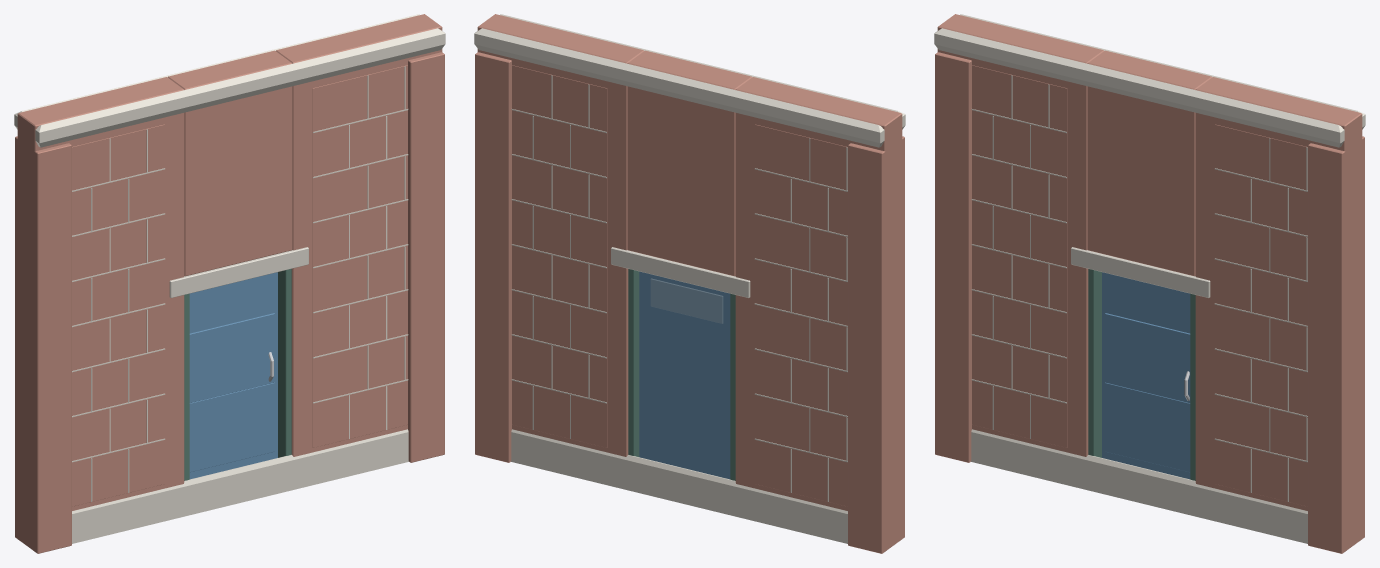
3 views of the same model, side by side, from view 1: azimuth 30°, elevation 25°; view 2: azimuth 150°, elevation 25°; view 3: azimuth 330°, elevation 25° (orthographic).
Visible parts, largest first — view 1: service-door-module, service-door/blue; view 2: service-door-module, service-door/blue, service-door/glass; view 3: service-door-module, service-door/blue.
Part boxes in pixels (x1,y1,x2,y2): service-door-module: (14, 14, 445, 553); service-door/blue: (189, 272, 277, 479); service-door-module: (474, 14, 905, 553); service-door/blue: (639, 271, 730, 479); service-door/glass: (651, 278, 722, 323); service-door-module: (934, 14, 1365, 553); service-door/blue: (1102, 272, 1190, 479).
Bounding box in the file's own units: 4 × 4 × 0.4277.
